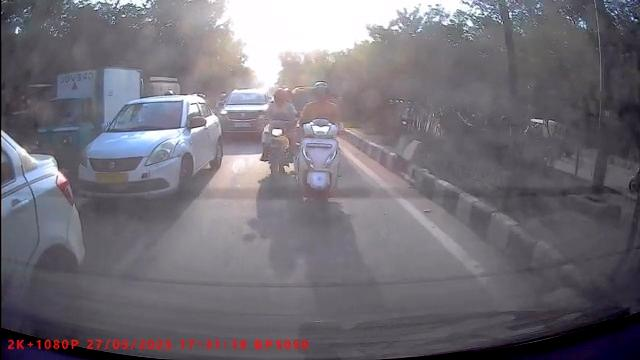motorcycle_with_helmet: (294, 80, 344, 205), (259, 83, 297, 180)
